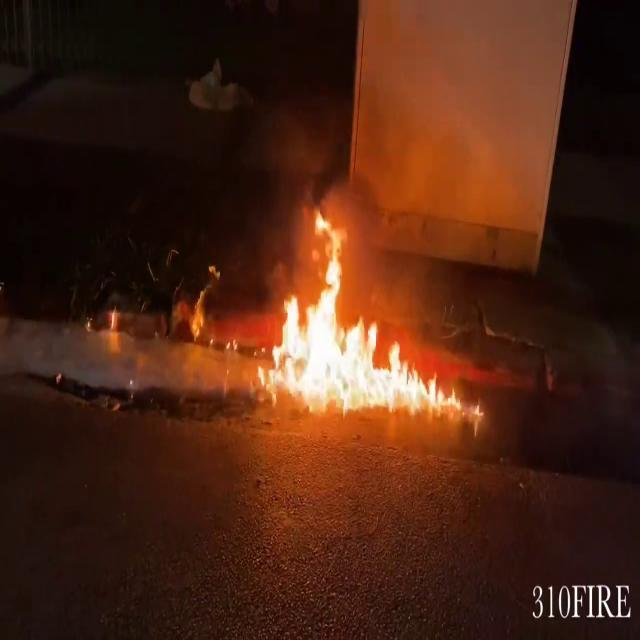Fire: (255, 212, 470, 418)
